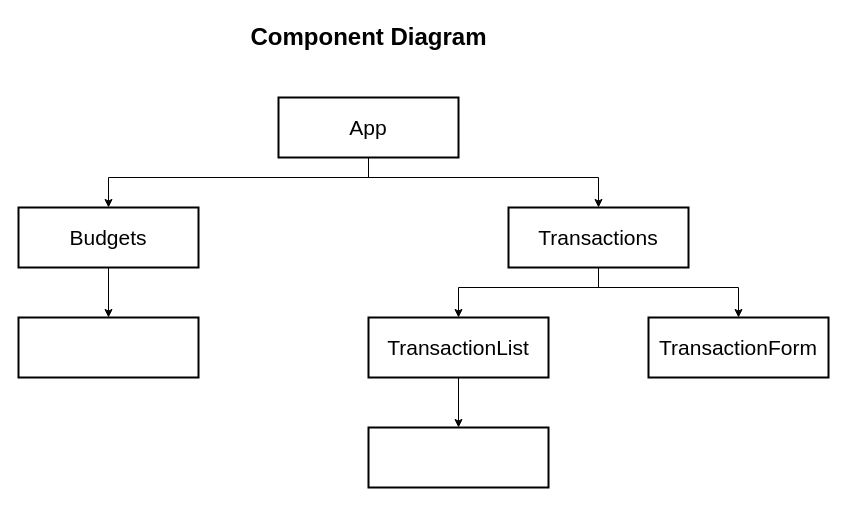
This 846x505 diagram has some shape labels left out. The shapes that lost their labels are listed below. From the top down, each one's box as (x1, y1, x2, y2) in pixels, then its label:
(17, 316, 199, 378): Budget
(367, 426, 549, 488): Transaction
